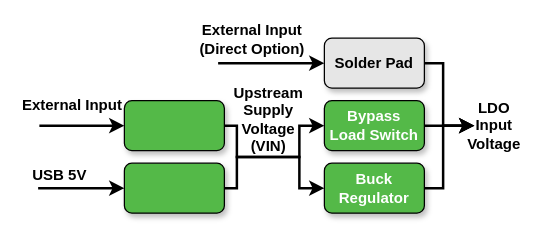
This 541x244 diagram has some shape labels left out. The centre of each missing label's shape, as x and y in pixels:
USB 5V Load Switch: point 175,189
VIN_EXT Load Switch: point 175,126
